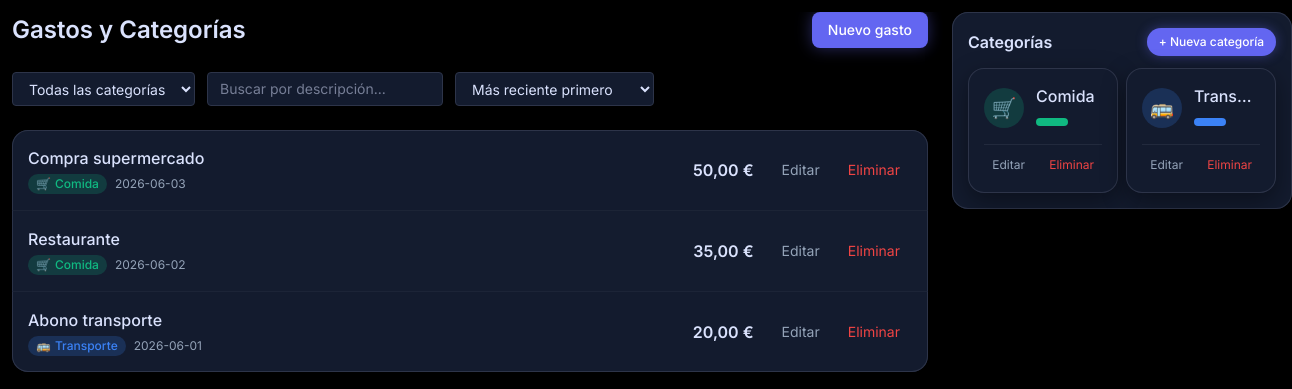
ExpensesPage — filter, search and sort › filter by category shows only expenses of that category
Select "Comida" in the dropdown named "categoría": (104, 89) [12,72,195,106]
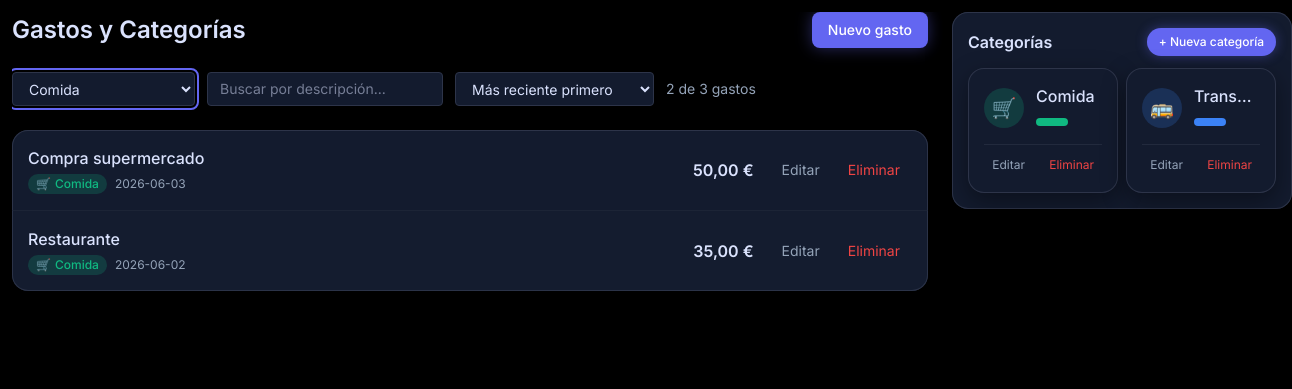
Expected: the text "Compra supermercado" is shown, [28,146,204,170]
Expected: the text "Abono transporte" is gone
